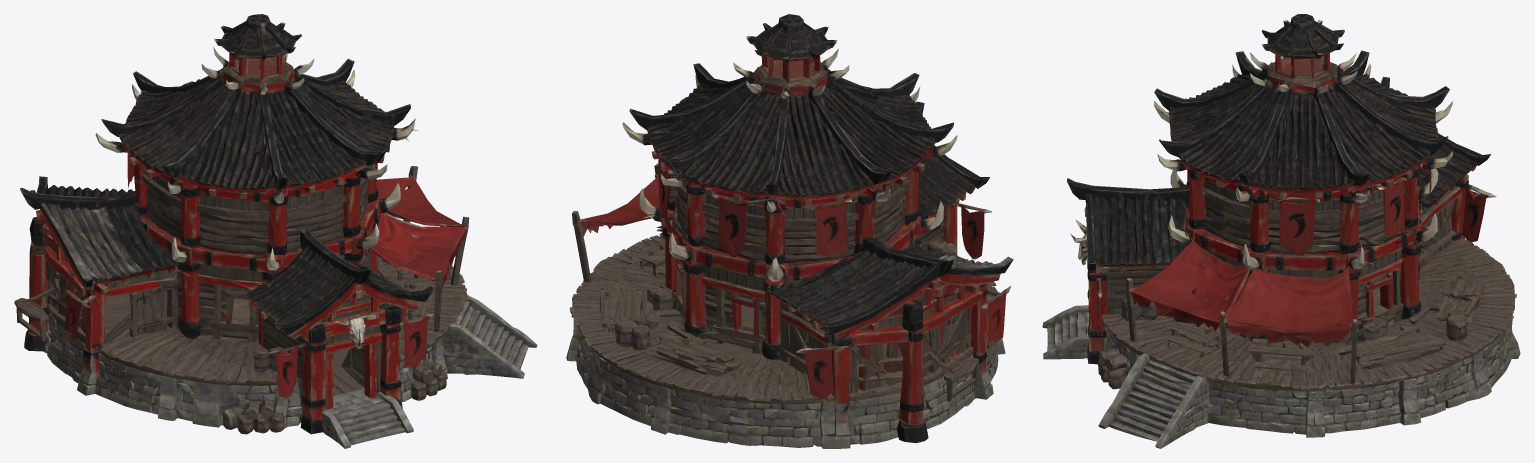
The model's file is tavern_hall.glb.
3 views of the same model, side by side, from view 1: azimuth 30°, elevation 25°; view 2: azimuth 150°, elevation 25°; view 3: azimuth 270°, elevation 25° (orthographic). The views are drawn at different scales.
Parts seen in each view (by area): view 1: tavern_hall; view 2: tavern_hall; view 3: tavern_hall.
Part boxes in pixels (x1=…): tavern_hall: x1=14, y1=14, x2=537, y2=448; tavern_hall: x1=566, y1=14, x2=1013, y2=448; tavern_hall: x1=1042, y1=14, x2=1520, y2=448.
Size of the model in its own units: 17.19 by 13 by 17.15.
1 material, 1 textured.
